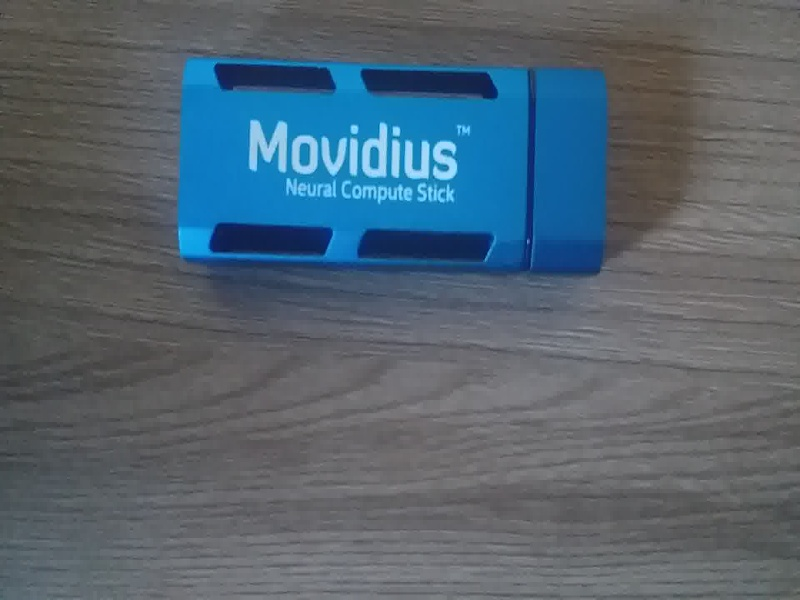movidius: (170, 46, 616, 284)
